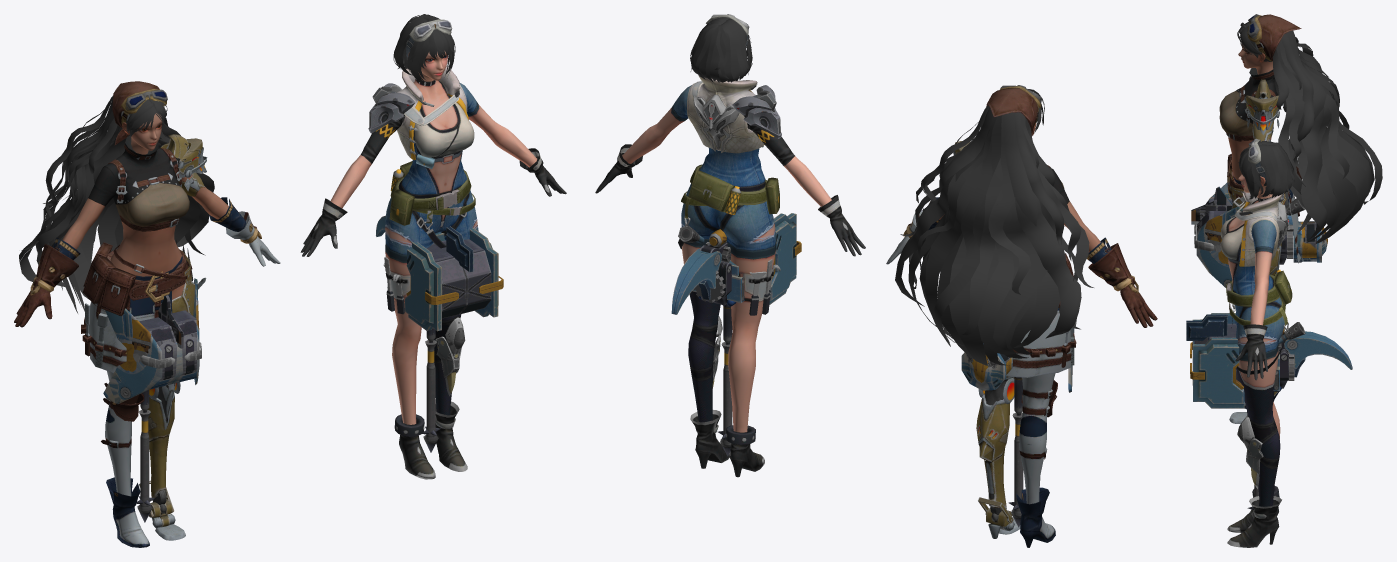
Rendered from jinu.glb.
The picture shows the model from 3 angles, left to right: view 1: azimuth 30°, elevation 25°; view 2: azimuth 150°, elevation 25°; view 3: azimuth 270°, elevation 25°; orthographic projection. The views are drawn at different scales.
Parts seen in each view (by area): view 1: Hephaistos, Hephaistos_Denim_A; view 2: Hephaistos, Hephaistos_Denim_A; view 3: Hephaistos_Denim_A, Hephaistos.
Part boxes in pixels (left/top/right/bottom): Hephaistos: left=14, top=81, right=280, bottom=547; Hephaistos_Denim_A: left=300, top=14, right=566, bottom=479; Hephaistos: left=886, top=85, right=1157, bottom=547; Hephaistos_Denim_A: left=595, top=14, right=865, bottom=477; Hephaistos_Denim_A: left=1186, top=138, right=1352, bottom=547; Hephaistos: left=1191, top=14, right=1382, bottom=423.
Size of the model in its own units: 2.13 by 1.65 by 0.7425.
Materials: 6 (4 with a texture image).
